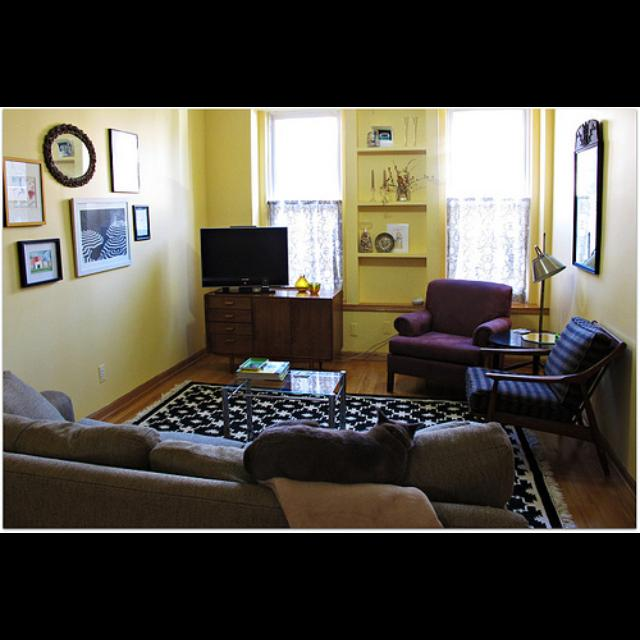Flat-Panel-TV: (200, 228, 289, 288)
